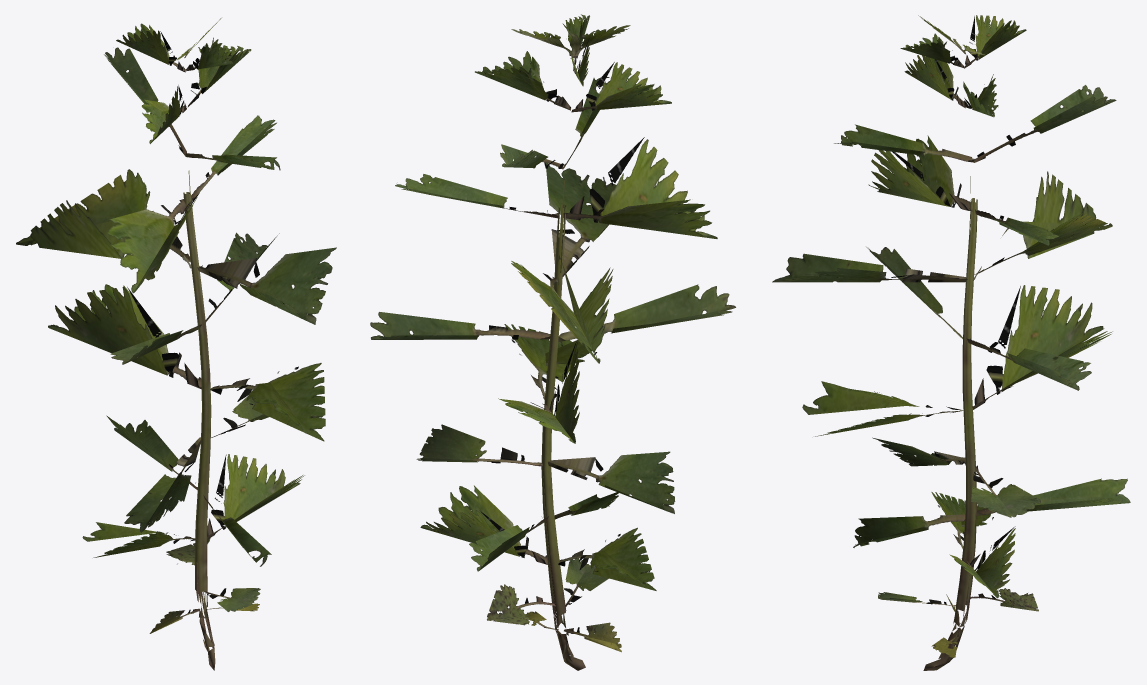
Rendered from Nettle Tall B.glb.
The picture shows the model from 3 angles, left to right: view 1: azimuth 30°, elevation 25°; view 2: azimuth 150°, elevation 25°; view 3: azimuth 270°, elevation 25°; orthographic projection. The views are drawn at different scales.
Parts seen in each view (by area): view 1: Nettle Tall B; view 2: Nettle Tall B; view 3: Nettle Tall B.
Part boxes in pixels (box(x1,y1,x2,y2)): Nettle Tall B: box(16, 18, 336, 670); Nettle Tall B: box(370, 14, 735, 670); Nettle Tall B: box(772, 15, 1130, 670).
Bounding box in the file's own units: 0.4207 × 0.95 × 0.4865.
1 material, 1 textured.
